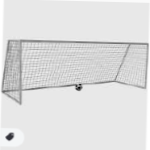goals: (1, 38, 149, 104)
